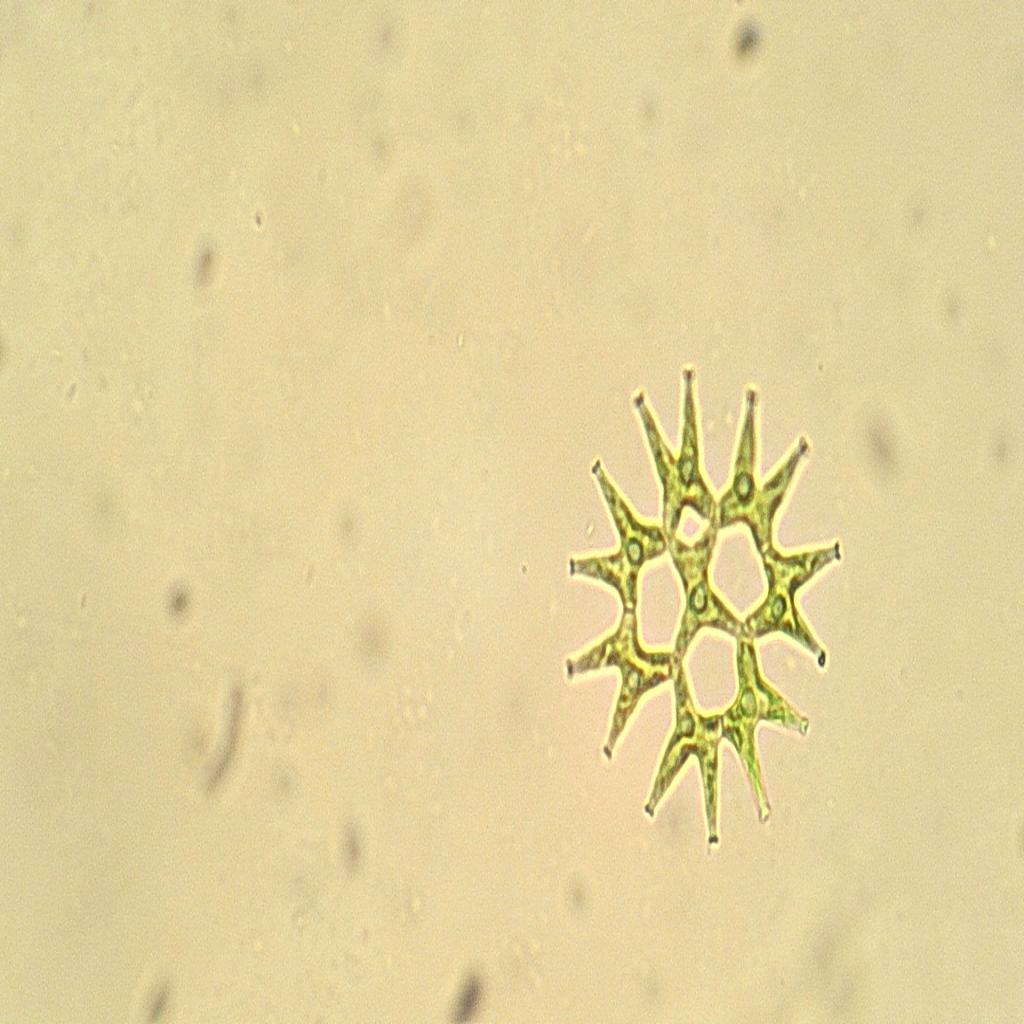Pediastrum_CTH: (557, 357, 849, 864)
